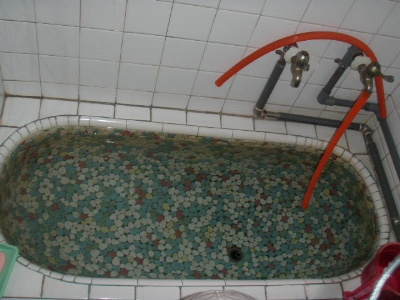tub: (1, 94, 395, 298)
